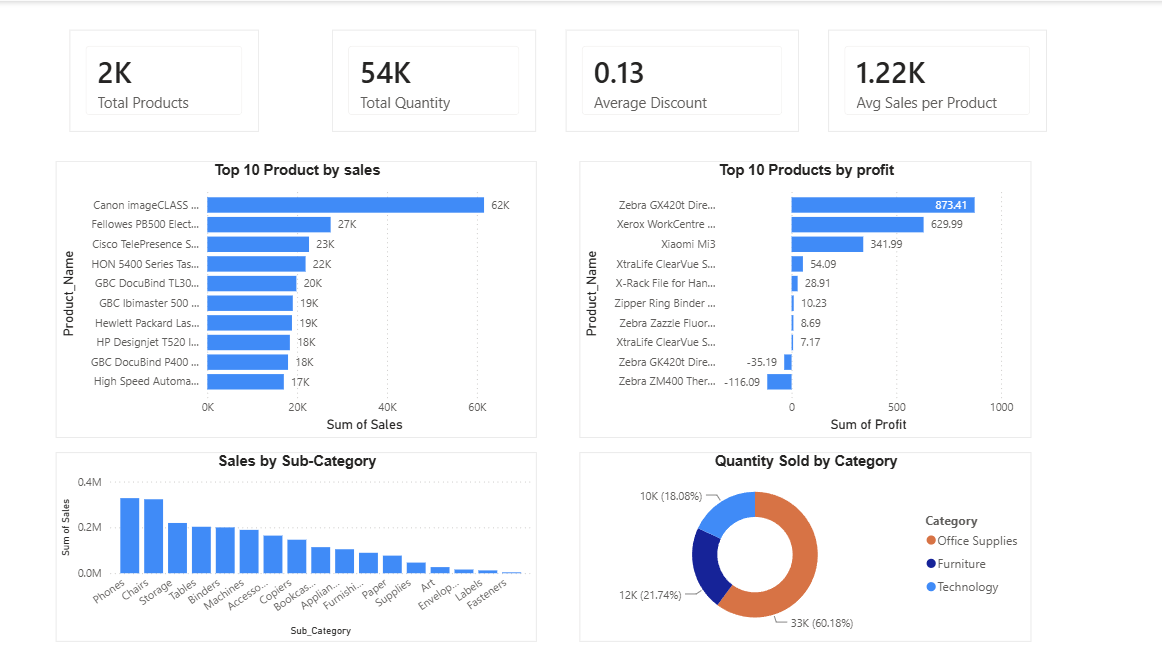

This screenshot's page, from the dashboard's own definition file:
{"tool":"powerbi","page":{"name":"Page 2","canvas":[1280,720],"ordinal":1},"visuals":[{"type":"clusteredBarChart","title":"Top 10 Product by sales","fields":{"Category":["Sales_Business_Performance.Product_Name"],"Y":["Sum(Sales_Business_Performance.Sales)"]},"box":[64,176,528,304],"z":0},{"type":"clusteredBarChart","title":"Top 10 Products by profit","fields":{"Category":["Sales_Business_Performance.Product_Name"],"Y":["Sum(Sales_Business_Performance.Profit)"]},"box":[640,176,496,304],"z":1000},{"type":"columnChart","title":"Sales by Sub-Category","fields":{"Category":["Sales_Business_Performance.Sub_Category"],"Y":["Sum(Sales_Business_Performance.Sales)"]},"box":[64,496,528,208],"z":2000},{"type":"donutChart","title":"Quantity Sold by Category","fields":{"Category":["Sales_Business_Performance.Category"],"Y":["Sum(Sales_Business_Performance.Quantity)"]},"box":[640,496,496,208],"z":4000},{"type":"cardVisual","fields":{"Data":["Sales_Business_Performance.Total Products"]},"box":[80,32,208,112],"z":4001},{"type":"cardVisual","fields":{"Data":["Sales_Business_Performance.Total Quantity"]},"box":[368,32,224,112],"z":4002},{"type":"cardVisual","fields":{"Data":["Sales_Business_Performance.Average Discount"]},"box":[624,32,256,112],"z":4003},{"type":"cardVisual","fields":{"Data":["Sales_Business_Performance.Avg Sales per Product"]},"box":[912,32,240,112],"z":4004}]}

Visuals, with their boxes in screenshot pixels (x1, y1, x2, y2), scaled from the page's 1280x720 canvas onto the 1162x653 screenshot:
"Top 10 Product by sales" clusteredBarChart: Rect(58, 160, 537, 435)
"Top 10 Products by profit" clusteredBarChart: Rect(581, 160, 1031, 435)
"Sales by Sub-Category" columnChart: Rect(58, 450, 537, 638)
"Quantity Sold by Category" donutChart: Rect(581, 450, 1031, 638)
cardVisual - Sales_Business_Performance.Total Products: Rect(73, 29, 261, 131)
cardVisual - Sales_Business_Performance.Total Quantity: Rect(334, 29, 537, 131)
cardVisual - Sales_Business_Performance.Average Discount: Rect(566, 29, 799, 131)
cardVisual - Sales_Business_Performance.Avg Sales per Product: Rect(828, 29, 1046, 131)
